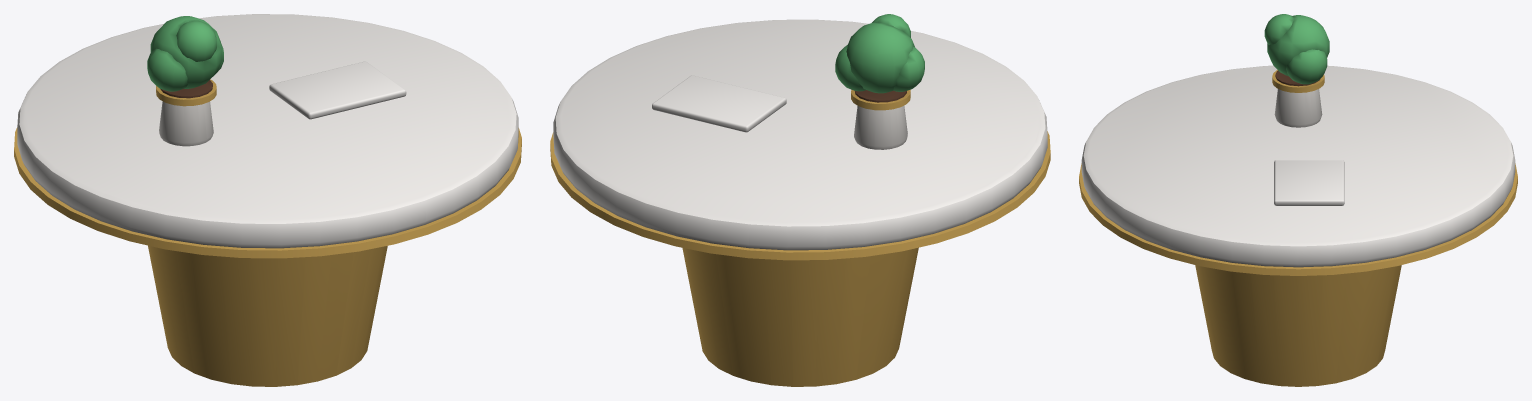
The model's file is coffee-table-round.glb.
3 views of the same model, side by side, from view 1: azimuth 30°, elevation 25°; view 2: azimuth 150°, elevation 25°; view 3: azimuth 270°, elevation 25° (orthographic). The views are drawn at different scales.
Parts seen in each view (by area): view 1: coffee-table-round; view 2: coffee-table-round; view 3: coffee-table-round.
Part boxes in pixels (<box>): coffee-table-round: <box>14,14,521,386</box>; coffee-table-round: <box>550,14,1050,386</box>; coffee-table-round: <box>1079,14,1517,386</box>.
Size of the model in its own units: 0.81 by 0.6115 by 0.81.
